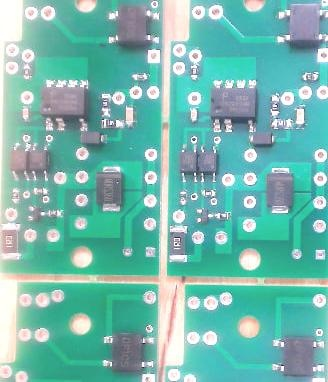chip-capacitor: (294, 104, 306, 131), (124, 104, 135, 128), (190, 107, 200, 124), (21, 105, 30, 123)
chip-resistor: (0, 222, 22, 262), (168, 224, 188, 264), (270, 118, 294, 131), (99, 93, 111, 118), (270, 91, 281, 117), (99, 118, 124, 129), (300, 71, 320, 83), (130, 71, 151, 82), (190, 63, 200, 82), (22, 64, 33, 81), (214, 211, 232, 221), (32, 187, 50, 196), (47, 209, 63, 219), (10, 188, 20, 204), (180, 190, 189, 207), (201, 189, 217, 198)
diode: (265, 167, 296, 214), (94, 165, 124, 213), (79, 131, 108, 146), (249, 132, 277, 147)
ic: (38, 76, 90, 133), (208, 79, 258, 134), (271, 335, 326, 378), (106, 4, 160, 47), (276, 3, 328, 44), (102, 333, 155, 373), (9, 142, 30, 183), (30, 142, 50, 183), (179, 144, 198, 184), (199, 144, 218, 183)
transistor: (194, 207, 213, 224), (27, 205, 46, 222)
